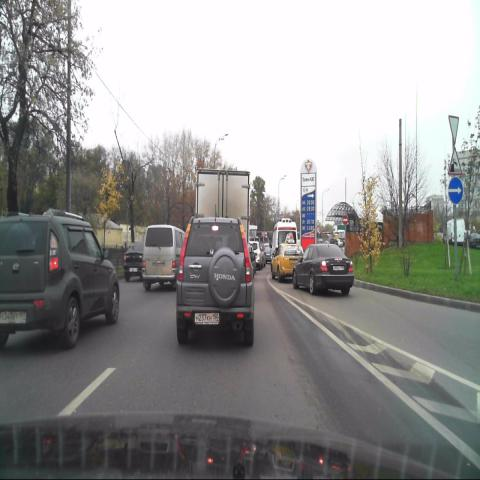1_10: (447, 148, 463, 175)
4_1_2_1: (448, 176, 464, 205)
